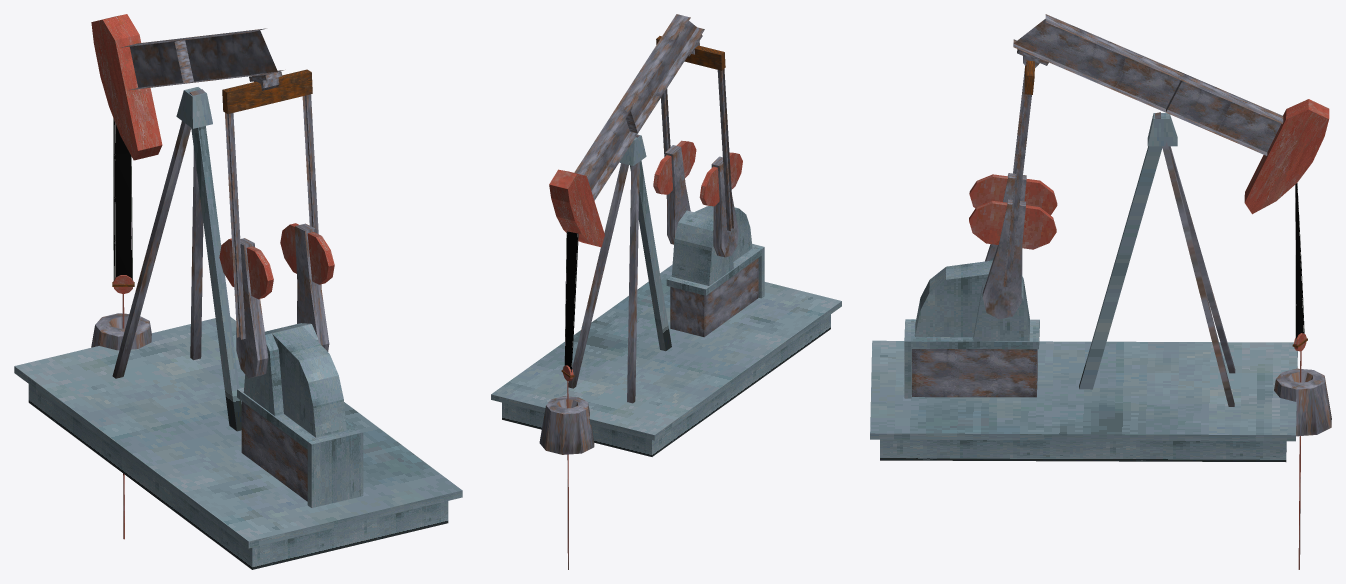
Rendered from nt_noddonkbase.obj.
3 renders of one model, left to right at view 1: azimuth 30°, elevation 25°; view 2: azimuth 150°, elevation 25°; view 3: azimuth 270°, elevation 25°, orthographic. The views are drawn at different scales.
Parts seen in each view (by area): view 1: nt_noddonkbase, Object01, Object04, Object03, Object02; view 2: nt_noddonkbase, Object01, Object04, Object03, Object02; view 3: nt_noddonkbase, Object01, Object04, Object03, Object02.
Boxes of the visible parts, left/top/right/bottom form: nt_noddonkbase: left=14, top=87, right=462, bottom=569; Object01: left=91, top=14, right=283, bottom=160; Object04: left=219, top=223, right=334, bottom=378; Object03: left=222, top=69, right=321, bottom=339; Object02: left=112, top=118, right=134, bottom=539; nt_noddonkbase: left=491, top=134, right=841, bottom=456; Object01: left=549, top=14, right=704, bottom=247; Object04: left=653, top=140, right=742, bottom=257; Object03: left=656, top=36, right=733, bottom=231; Object02: left=561, top=231, right=578, bottom=569; nt_noddonkbase: left=870, top=112, right=1331, bottom=461; Object01: left=1013, top=14, right=1329, bottom=214; Object04: left=969, top=173, right=1057, bottom=319; Object03: left=1003, top=60, right=1034, bottom=287; Object02: left=1292, top=183, right=1307, bottom=569.
Size of the model in its own units: 11.57 by 31.34 by 23.91.
Materials: 13 (13 with a texture image).
